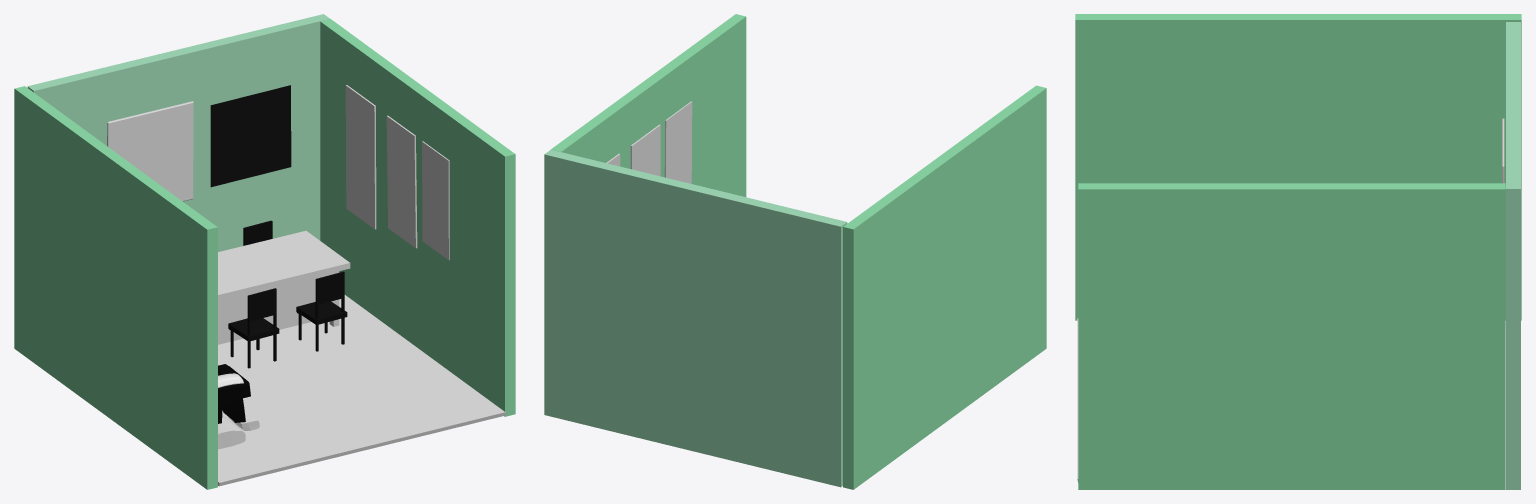
Rendered from  saladeoptca.fbx.
The picture shows the model from 3 angles, left to right: view 1: azimuth 30°, elevation 25°; view 2: azimuth 150°, elevation 25°; view 3: azimuth 270°, elevation 25°; orthographic projection. The views are drawn at different scales.
Parts seen in each view (by area): view 1: Cube, Cube.001; view 2: Cube; view 3: Cube.
Boxes of the visible parts, <box> form: Cube: <box>14,14,515,489</box>; Cube.001: <box>218,364,259,449</box>; Cube: <box>544,14,1046,489</box>; Cube: <box>1075,14,1521,489</box>.
Size of the model in its own units: 2051 by 1653 by 2216.
